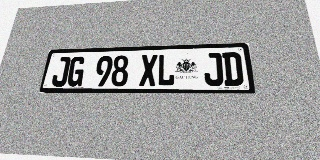8: (110, 55, 130, 86)
9: (94, 56, 113, 86)
D: (222, 52, 244, 86)
G: (66, 56, 86, 86)
J: (203, 53, 224, 86), (51, 57, 71, 87)
L: (157, 54, 175, 86)
X: (139, 54, 157, 86)
